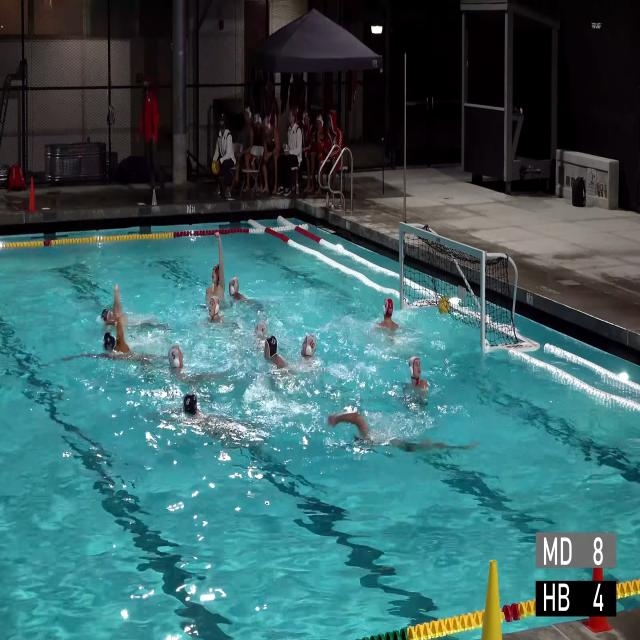ball: (438, 296, 450, 314), (212, 160, 220, 174)
